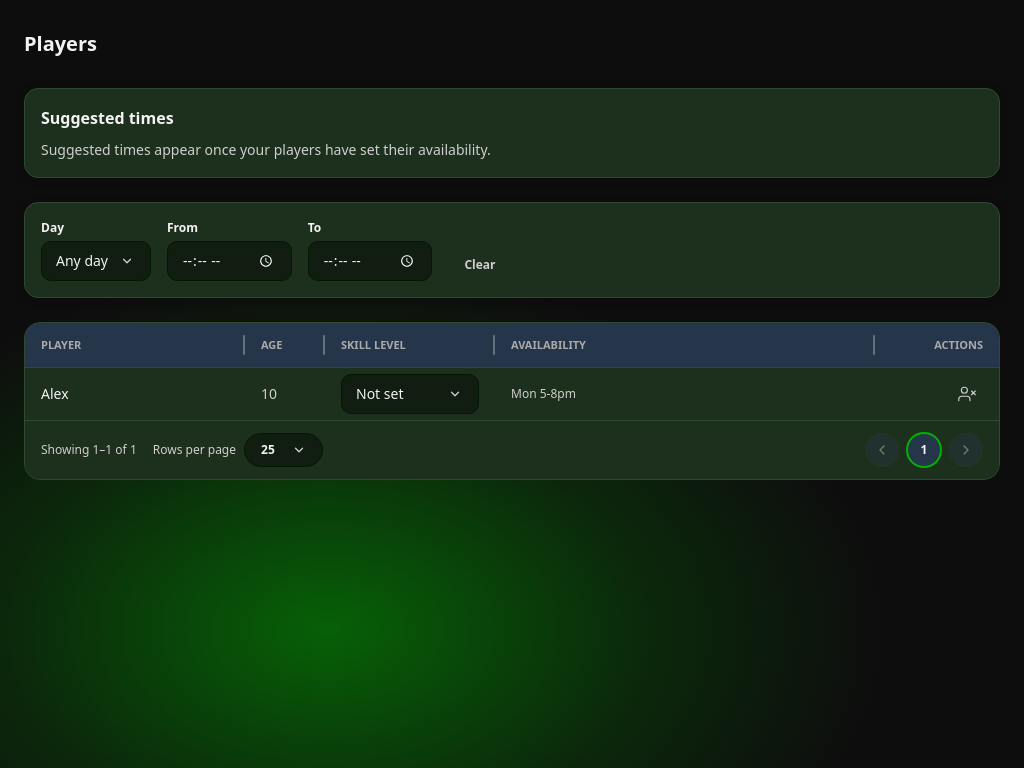
PlayersPage (trainer) › keeps the confirm dialog open with an error when the removal fails
Expected: the row "Alex 10 Mon 5-8pm" is shown, [25,368,999,420]
Click the button named "Remove Alex": (967, 394) [951,378,983,410]
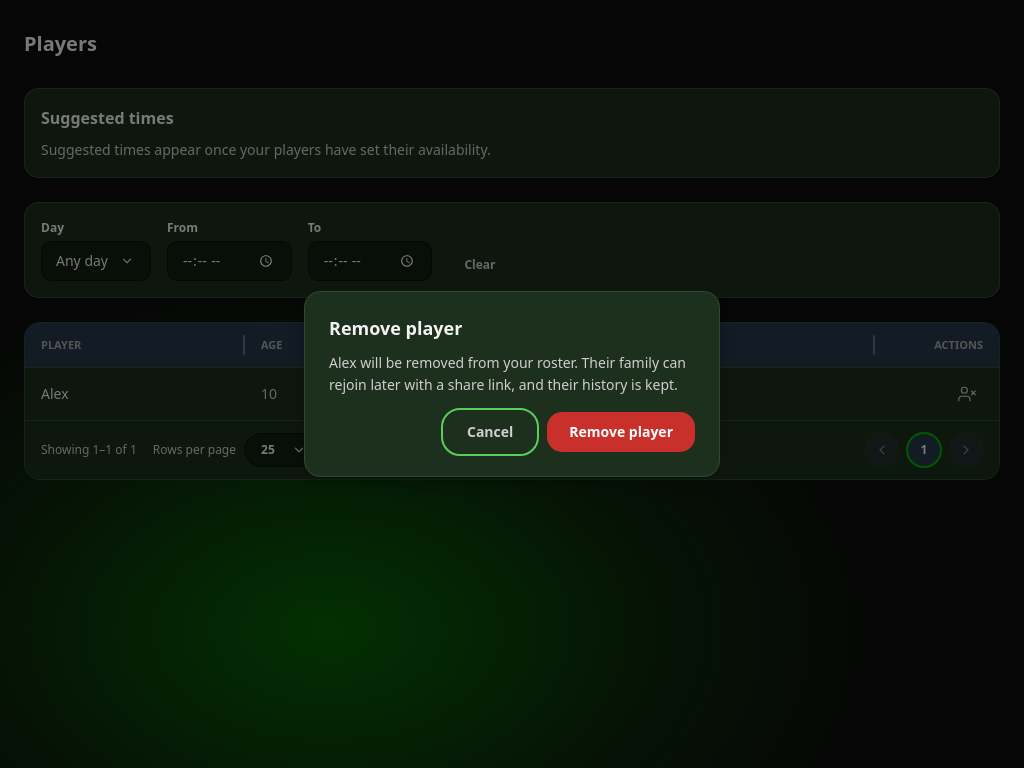
Click the button "Remove player": (621, 432) [547,412,695,452]
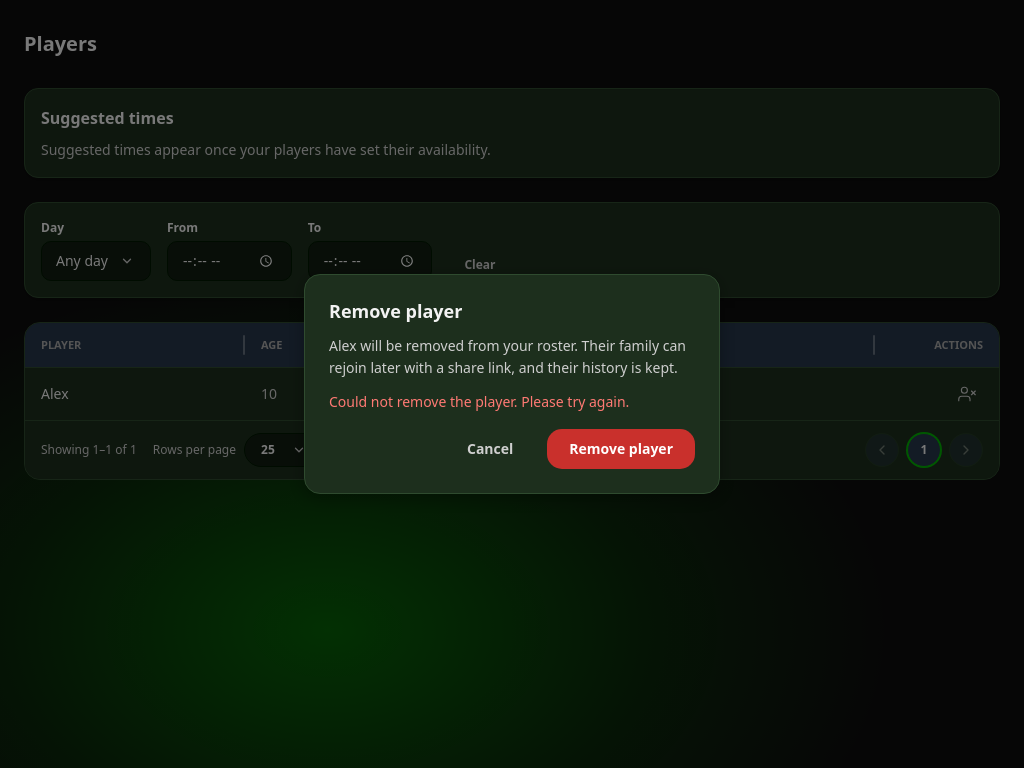
Result: the dialog is shown at [304,274,720,494]
Result: the message shows "Could not remove" at [329,392,629,411]
